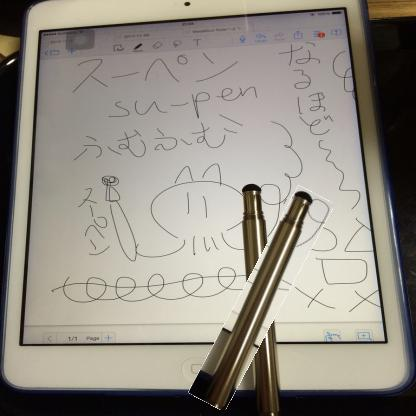Pen: (215, 183, 308, 414)
